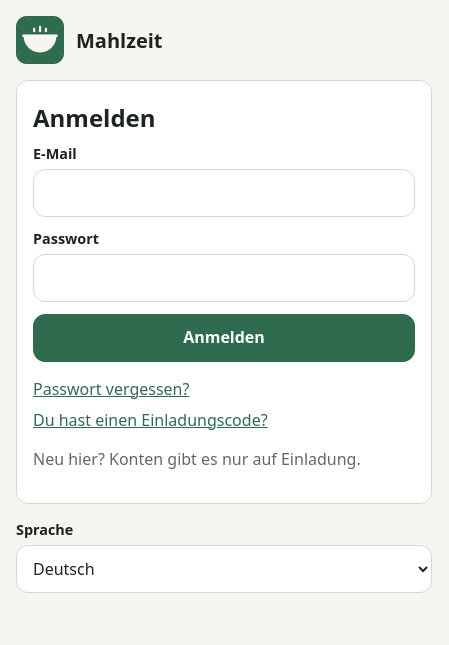
sign-in › shows a translated error for a wrong password
The image size is (449, 645).
Step 1. Type "a@example.org" into the field labelled "E-Mail" → (224, 193), box [33, 169, 415, 217]
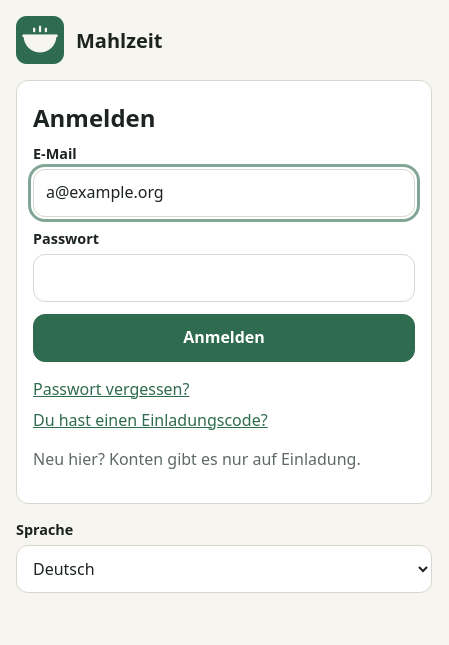
Step 2. Type "nope" into the password field labelled "Passwort" → (224, 278), box [33, 254, 415, 302]
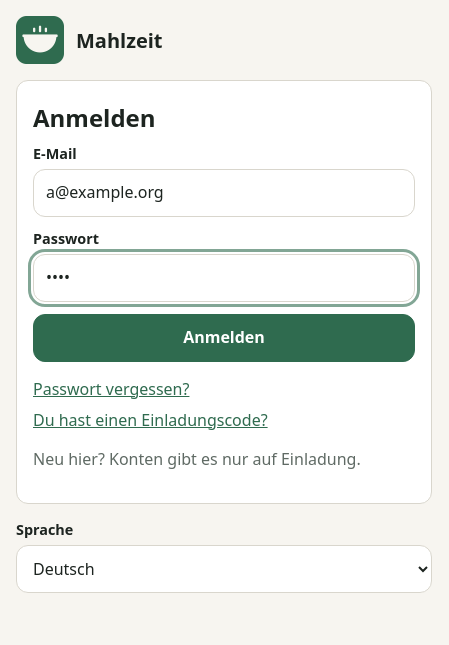
Step 3. Click the button "Anmelden" → (224, 338), box [33, 314, 415, 362]
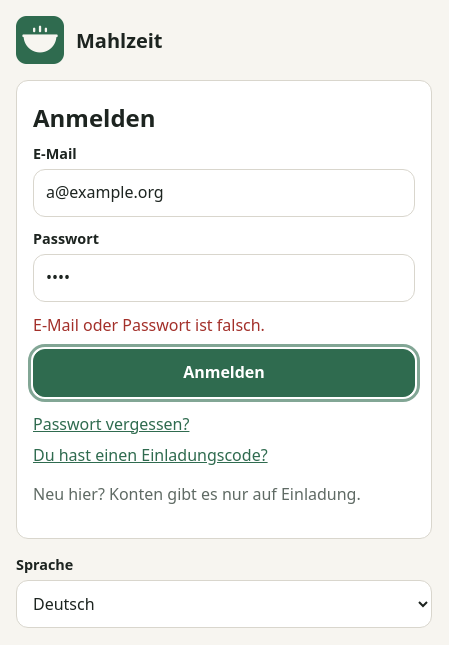
Now the message reads "E-Mail oder Passwort ist falsch.", box [33, 314, 265, 336]
